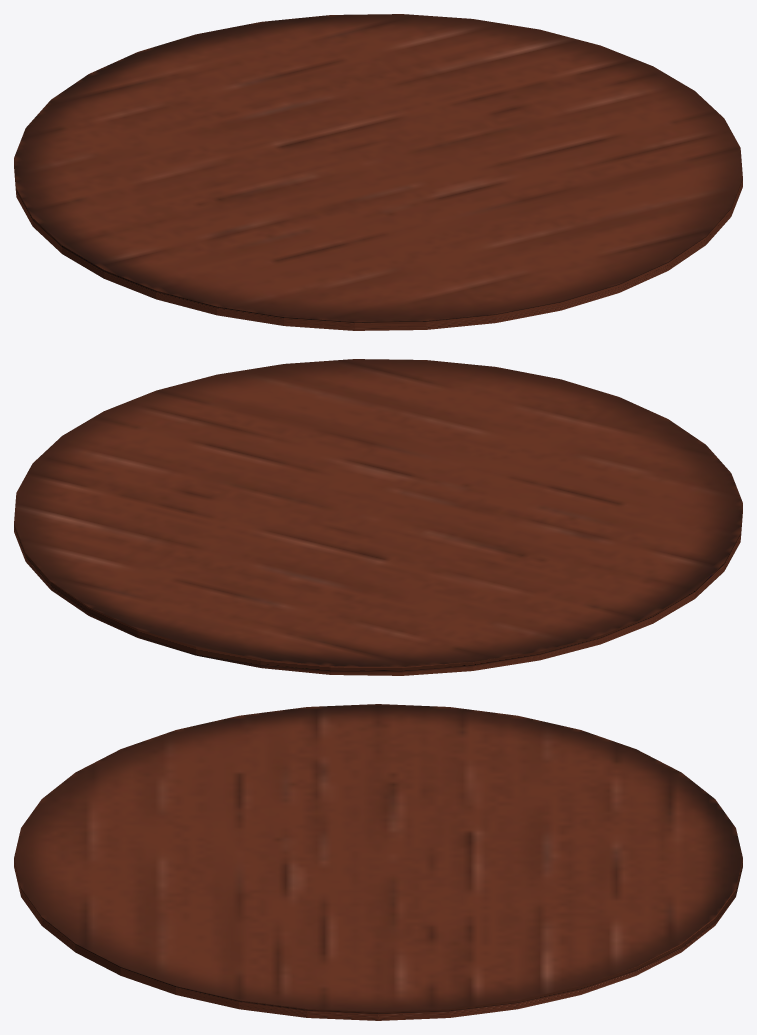
The model's file is textured_table.glb.
3 views of the same model, one above another, from view 1: azimuth 30°, elevation 25°; view 2: azimuth 150°, elevation 25°; view 3: azimuth 270°, elevation 25° (orthographic).
Visible parts, largest first — view 1: Cylinder; view 2: Cylinder; view 3: Cylinder.
Part boxes in pixels (x1,y1,x2,y2): Cylinder: [14, 14, 742, 330]; Cylinder: [14, 359, 742, 675]; Cylinder: [14, 704, 742, 1020].
Bounding box in the file's own units: 2 × 0.0268 × 2.
1 material, 1 textured.
